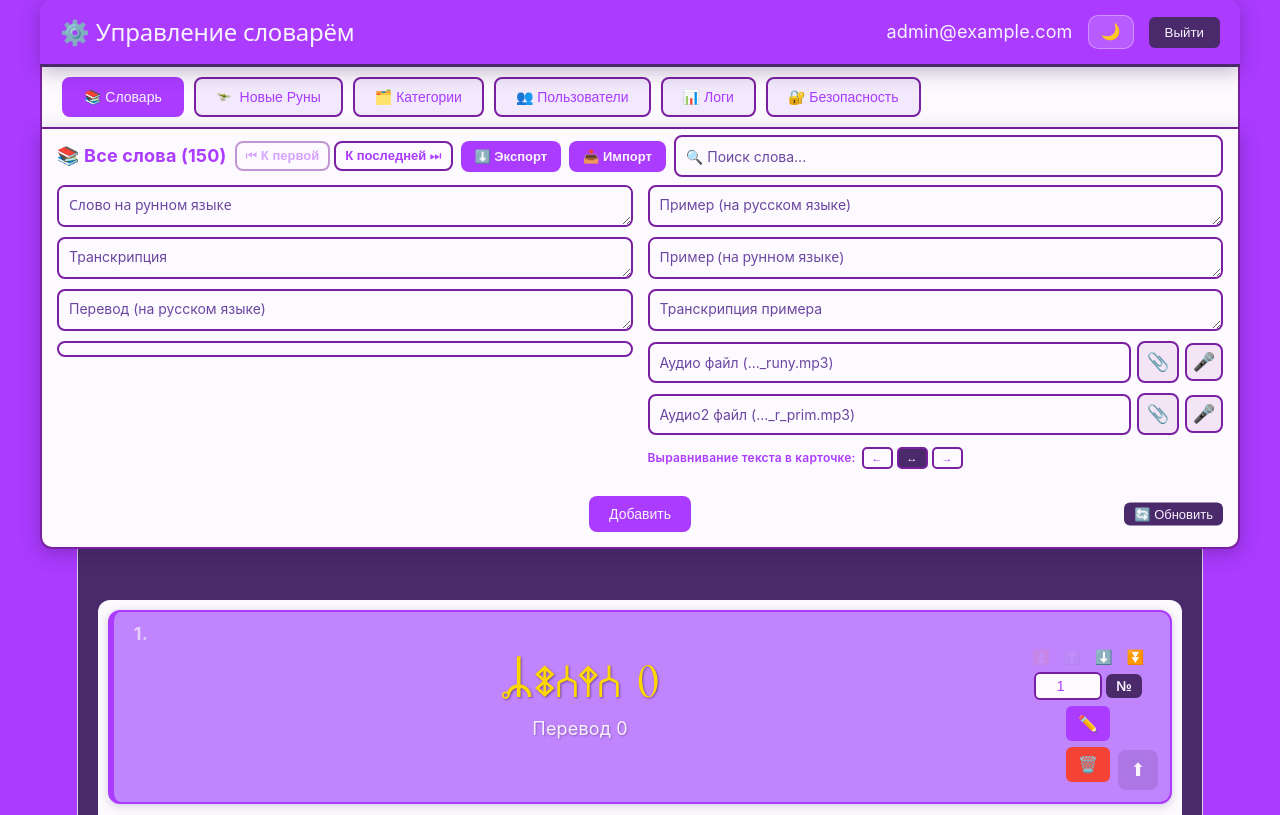
Test: AdminPanel: порционная отрисовка сетки слов › переход к последней карточке не загружает весь словарь в DOM
The width and height of the screenshot is (1280, 815).
Expected: the heading "Слово 0" is shown, x1=501 y1=648 x2=660 y2=706
Click the button "К последней ⏭": [393, 156] box x1=334 y1=141 x2=453 y2=171
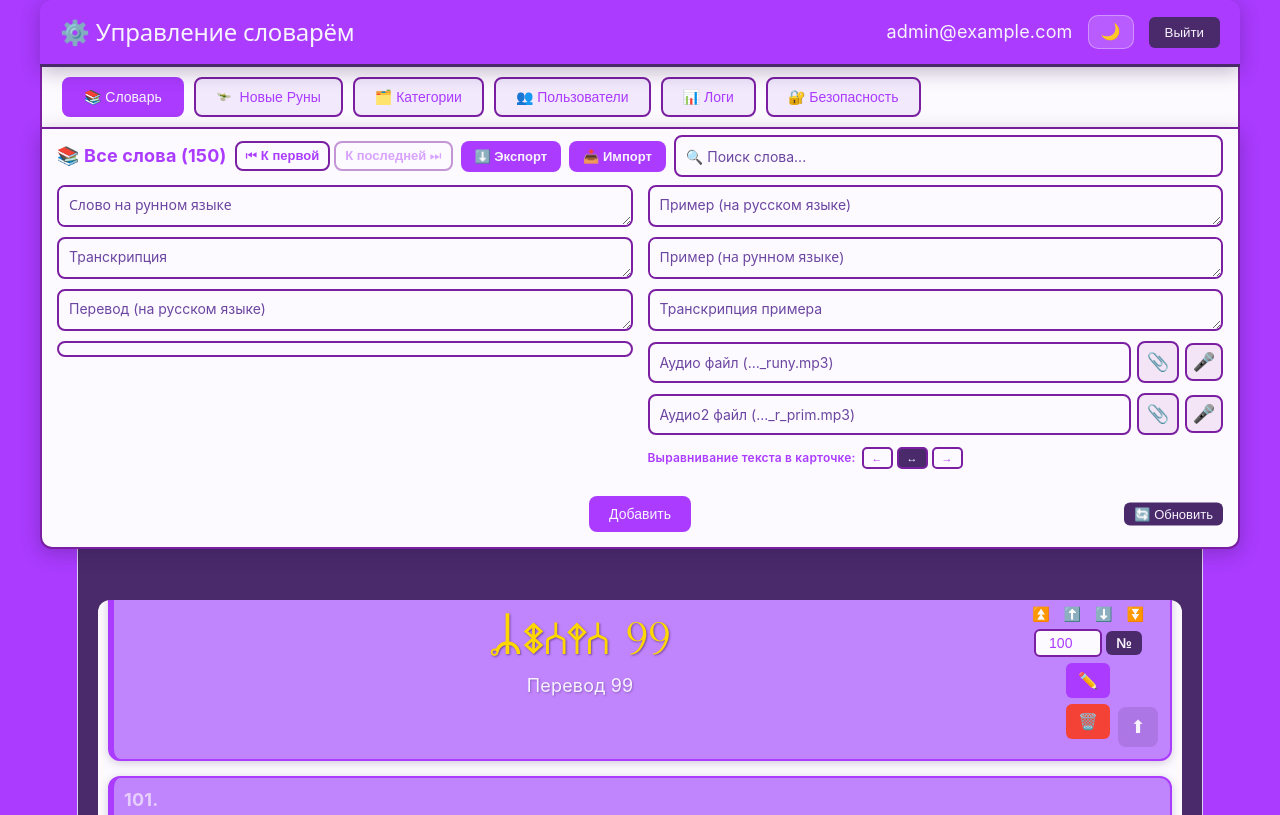
Result: the heading "Слово 0" is gone
Result: the button "⏮ К первой" is enabled
Click the button "⏮ К первой": [282, 156] box x1=234 y1=141 x2=330 y2=171
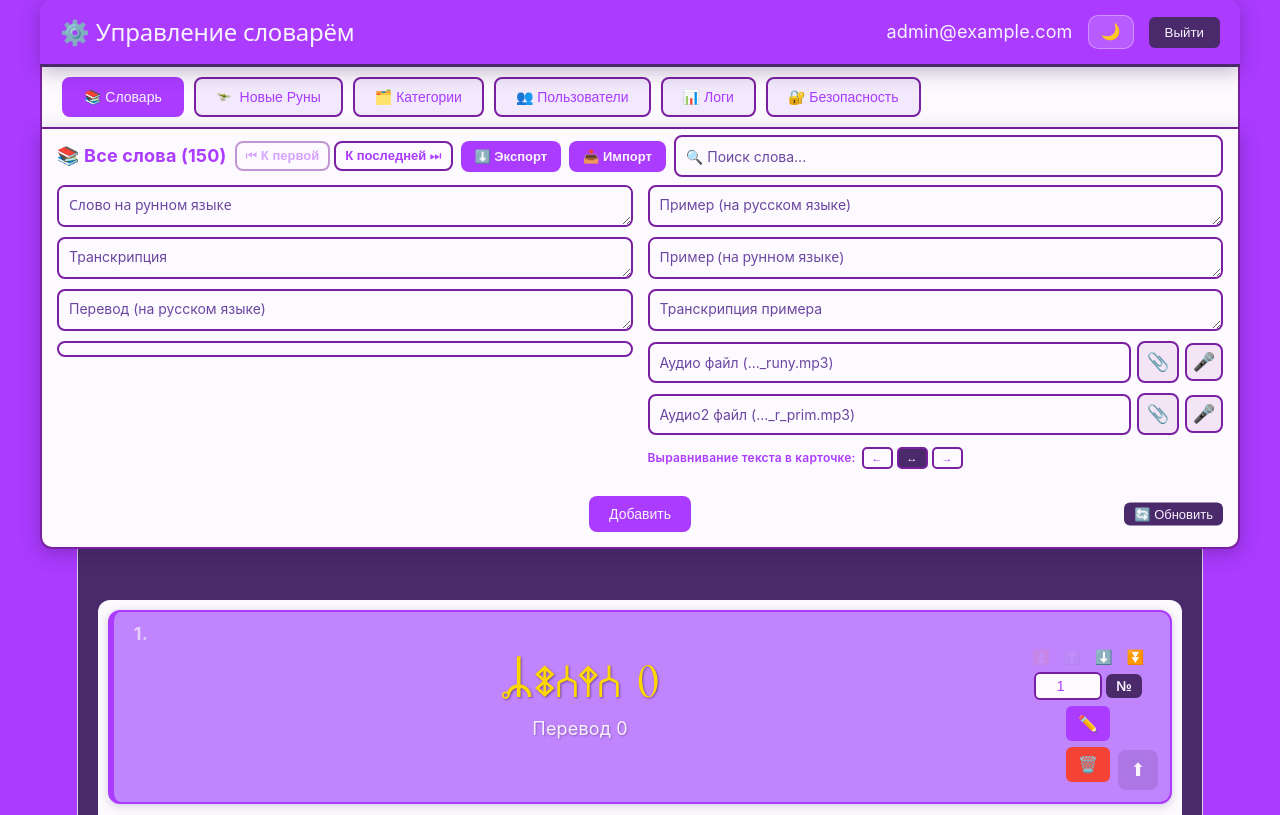
Result: the heading "Слово 0" is shown at x1=501 y1=648 x2=660 y2=706
